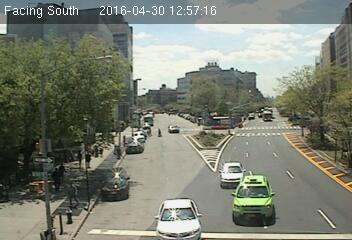neg: (39, 53, 58, 77), (45, 95, 63, 119), (314, 156, 332, 180), (180, 205, 197, 228), (307, 117, 322, 137), (196, 76, 210, 95), (216, 165, 230, 183), (243, 176, 256, 193), (208, 134, 219, 149), (251, 97, 262, 112), (172, 121, 182, 134), (151, 89, 161, 102), (119, 120, 128, 131)
pos: (62, 183, 81, 208), (47, 168, 66, 193), (54, 164, 71, 186), (74, 150, 88, 169), (84, 150, 97, 167), (113, 145, 124, 160), (156, 127, 164, 138)
